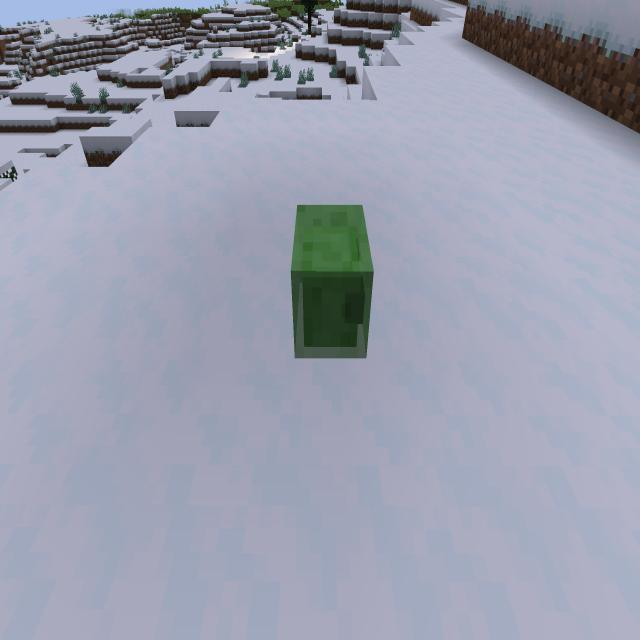Slime: (283, 184, 382, 381)
